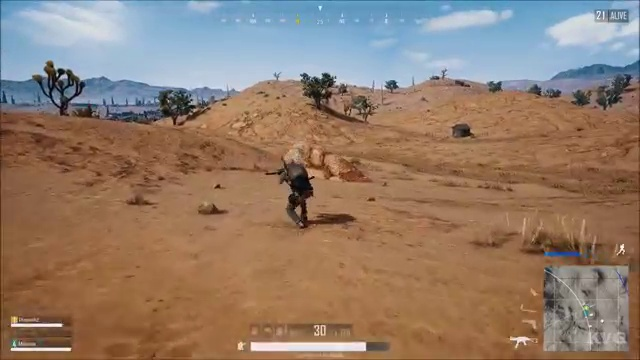Player: (248, 148, 325, 229)
